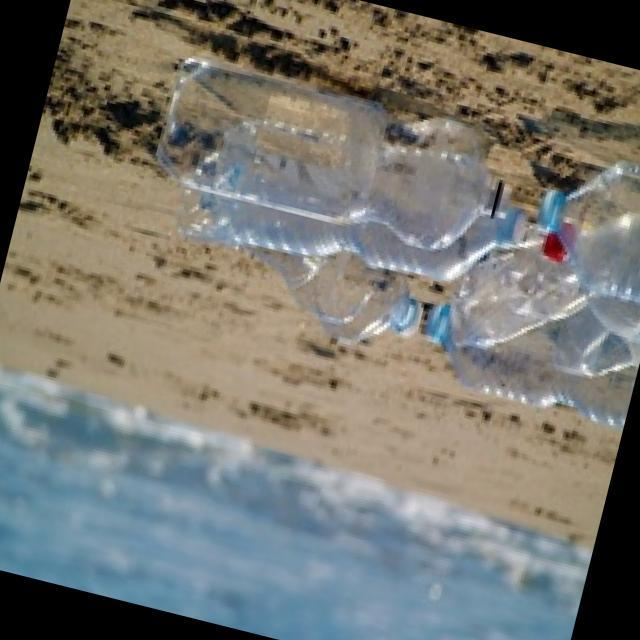good: (114, 24, 640, 434)
